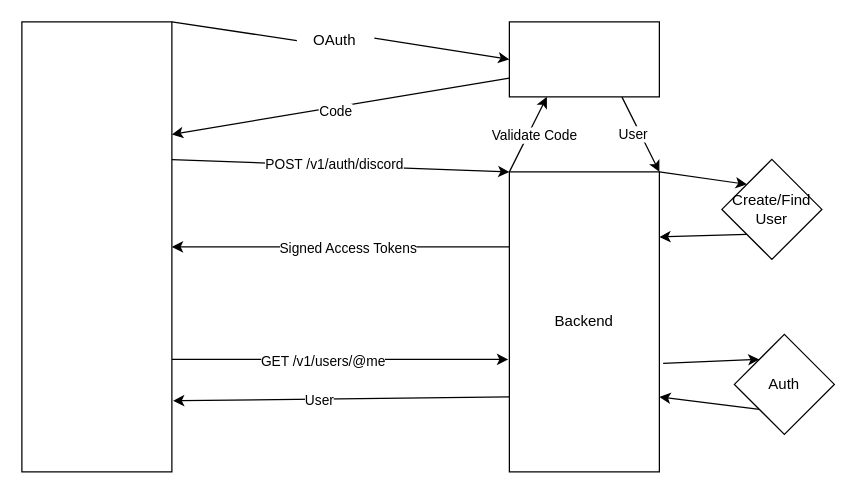
The diagram is 856 pixels wide and 494 high, and some of its shapes have lost their labels. The shapes that lost their labels are listed below. From the top down, each one's box as (x1, y1, x2, y2) in pixels, then its label:
(508, 21, 659, 97): Discord
(21, 21, 172, 472): Frontend
